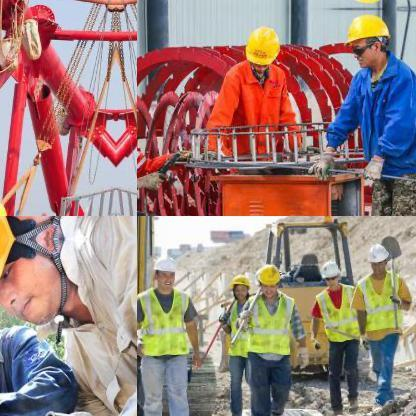Helmet: (0, 237, 70, 327), (340, 10, 390, 68), (242, 22, 282, 70), (150, 250, 178, 290), (365, 236, 391, 272), (254, 260, 280, 294), (318, 256, 340, 286), (228, 271, 251, 299)
